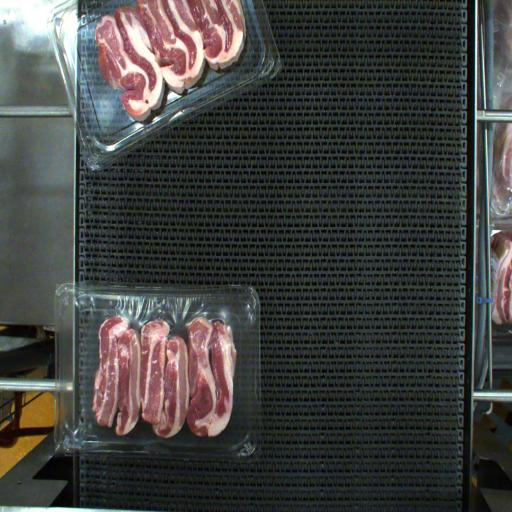unsealed: (75, 298, 248, 443)
